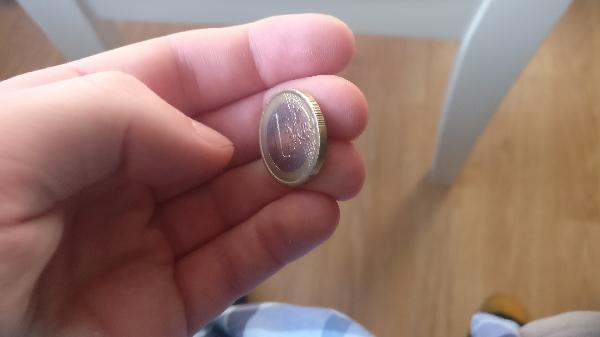One Euro: (259, 90, 324, 189)
